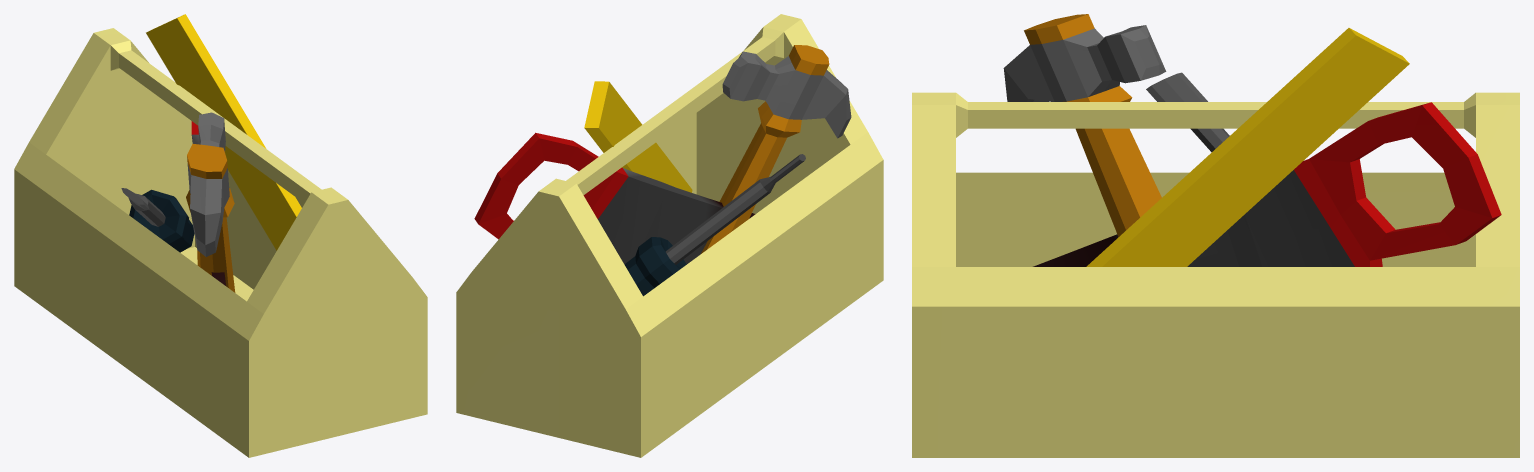
Rendered from toolboxCrowIsland.fbx.
The picture shows the model from 3 angles, left to right: view 1: azimuth 30°, elevation 25°; view 2: azimuth 150°, elevation 25°; view 3: azimuth 270°, elevation 25°; orthographic projection. The views are drawn at different scales.
Visible parts, largest first — view 1: toolbox; view 2: toolbox; view 3: toolbox.
Part boxes in pixels (box(x1,y1,x2,y2)): toolbox: box(14, 14, 427, 457); toolbox: box(456, 14, 883, 457); toolbox: box(912, 14, 1519, 457).
Bounding box in the file's own units: 149 × 206 × 300.
